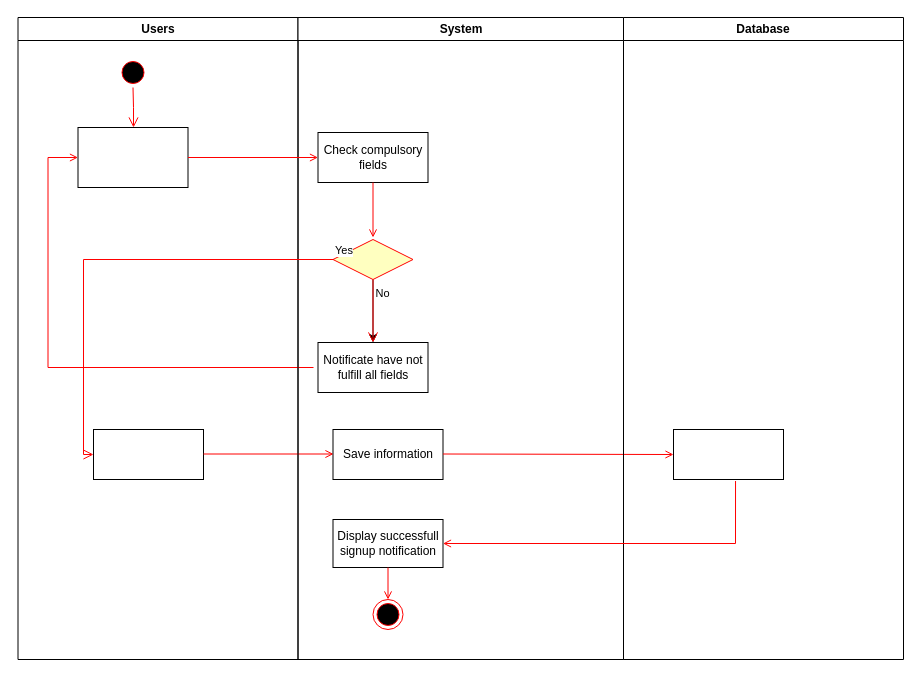
Some shapes in this 921 by 677 pixel diagram are drawn without their labels. Here are the shapes that lost their labels. From the top down, the centre of each, then its label:
(x=132, y=157): Entering compulsory field
(x=148, y=454): Click on "Sigup" button
(x=728, y=454): LoginInfor
